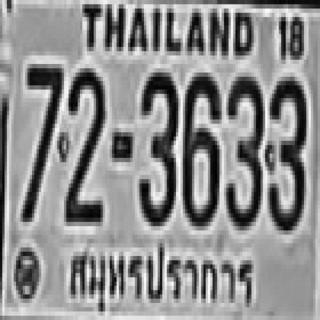N02: (64, 64, 103, 222)
N03: (137, 68, 176, 222), (224, 73, 263, 226), (265, 73, 304, 226)
N06: (181, 70, 219, 224)
N07: (21, 60, 62, 218)
P57: (67, 238, 261, 318)
